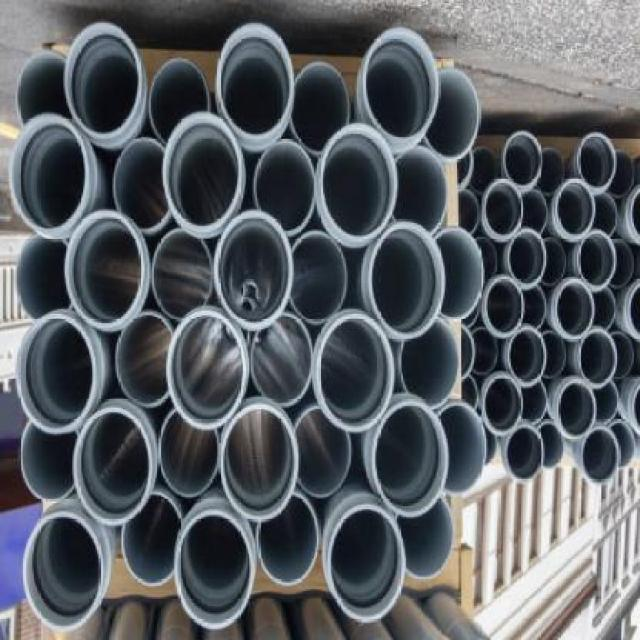pipe: (23, 510, 105, 633), (316, 308, 396, 433), (166, 306, 246, 431), (9, 113, 91, 234), (15, 314, 97, 434), (174, 508, 254, 630), (163, 111, 243, 232), (220, 402, 299, 524), (66, 211, 146, 330), (214, 209, 294, 328), (73, 408, 153, 526), (65, 22, 144, 141), (368, 220, 446, 340), (328, 505, 406, 624), (217, 23, 294, 143), (373, 400, 450, 519), (320, 122, 397, 241), (363, 26, 440, 142), (250, 311, 313, 407), (257, 492, 320, 585), (115, 309, 174, 408), (289, 403, 351, 497), (122, 491, 184, 585), (152, 228, 214, 321), (256, 139, 316, 233), (289, 231, 348, 324), (291, 62, 351, 153), (400, 314, 458, 408), (423, 68, 480, 161), (114, 137, 170, 231), (159, 411, 220, 497), (149, 57, 209, 143), (393, 145, 450, 234), (20, 422, 80, 504), (16, 234, 73, 320), (434, 226, 485, 322), (396, 494, 453, 579), (436, 400, 487, 494), (17, 51, 68, 127), (482, 177, 525, 242), (483, 274, 525, 339), (553, 277, 596, 340), (482, 373, 524, 436), (575, 229, 617, 289), (557, 378, 597, 440), (508, 226, 548, 288), (556, 179, 596, 239), (503, 131, 543, 190), (508, 325, 546, 387), (578, 328, 617, 388), (577, 132, 616, 191), (582, 427, 621, 485), (506, 425, 545, 482), (470, 146, 499, 194), (540, 237, 568, 285), (536, 148, 565, 194), (471, 328, 499, 374), (539, 422, 565, 470), (540, 331, 566, 379), (608, 149, 634, 197), (520, 380, 548, 423), (609, 240, 634, 288), (522, 188, 548, 234), (611, 331, 634, 382), (592, 286, 617, 331), (522, 285, 547, 330), (593, 193, 619, 236), (475, 237, 497, 285), (596, 380, 619, 425), (458, 189, 480, 234)
